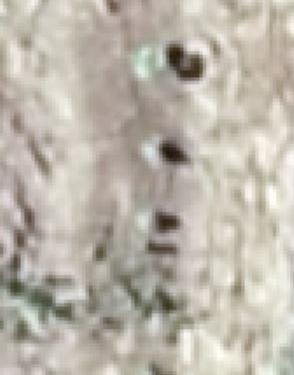cotton: (135, 51, 162, 75), (144, 211, 157, 228)
